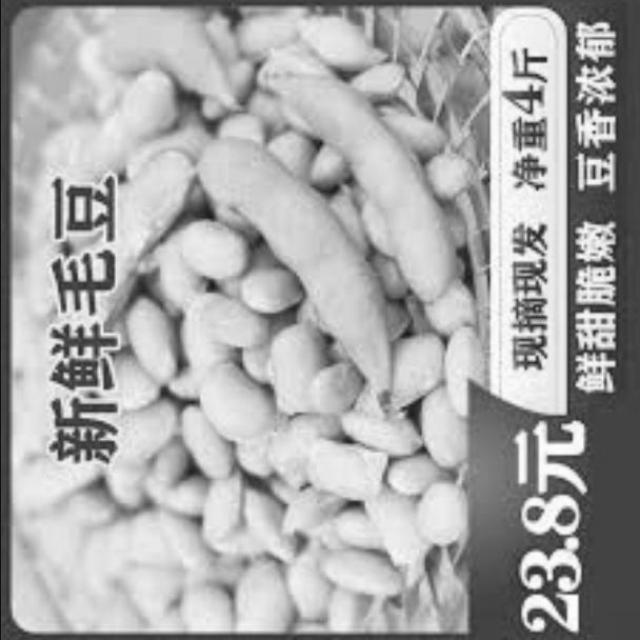dau van: (10, 4, 464, 640)
